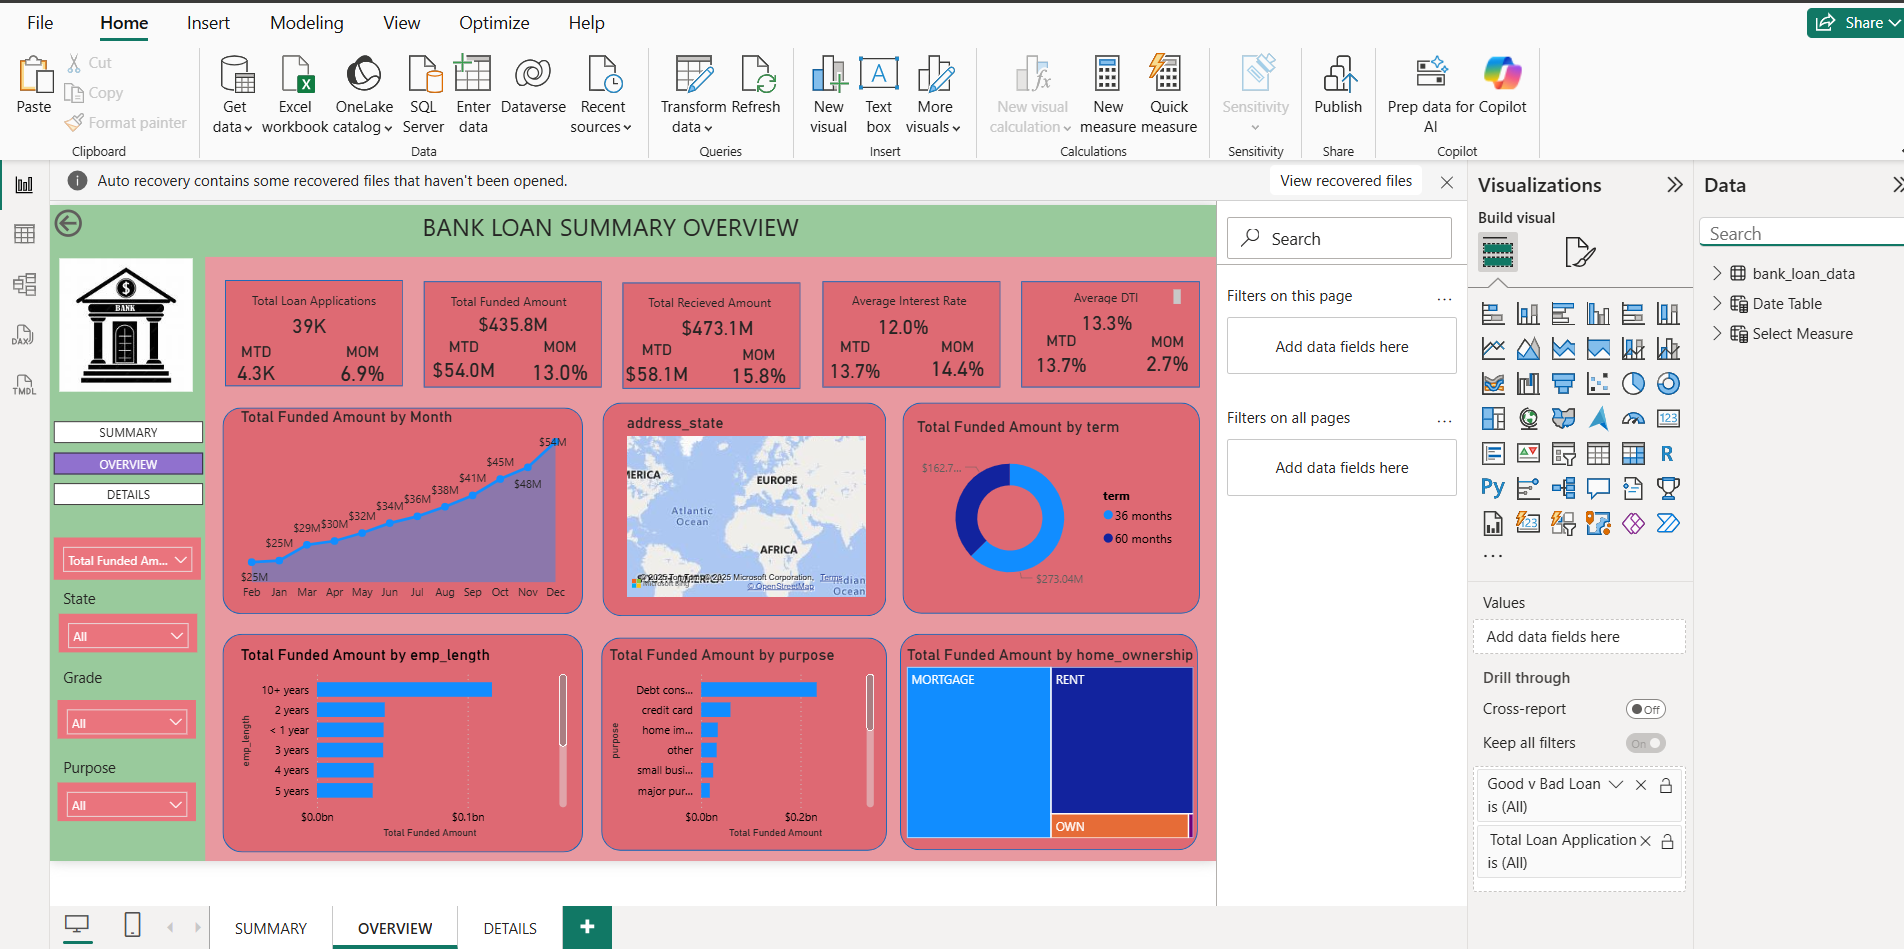

The dashboard page shown, as its layout file describes it:
{"tool":"powerbi","page":{"name":"OVERVIEW","canvas":[1280,720],"ordinal":1},"visuals":[{"type":"shape","box":[411.1,83.3,195.6,116.7],"z":0,"group":"g2"},{"type":"shape","box":[629.5,83.3,195.6,116.7],"z":0,"group":"g3"},{"type":"shape","box":[847.7,83.3,195.6,116.7],"z":0,"group":"g4"},{"type":"shape","box":[191.1,83.5,195.6,116.7],"z":0,"group":"g1"},{"type":"shape","box":[1065.8,83.5,196.2,116.6],"z":0,"group":"g5"},{"type":"shape","box":[189.4,222,395.7,226.8],"z":0},{"type":"shape","box":[0,0,1280,56.7],"z":1000},{"type":"card","fields":{"Values":["Date Table.Total Funded Amount"]},"box":[459,102.9,100.2,56.3],"z":1000,"group":"g2"},{"type":"card","fields":{"Values":["Date Table.AVG DTI"]},"box":[1113.7,104.3,97.4,45.3],"z":1000,"group":"g5"},{"type":"card","fields":{"Values":["Date Table.Total Recieved Amount"]},"box":[684.1,111.1,70,45.3],"z":1000,"group":"g3"},{"type":"card","fields":{"Values":["Date Table.Avg Interest Rate"]},"box":[887.4,111.1,97.4,45.3],"z":1000,"group":"g4"},{"type":"card","fields":{"Values":["Date Table.Total Loan Applications"]},"box":[245.6,120.8,70,45.3],"z":1000,"group":"g1"},{"type":"shape","box":[0,56.3,170.2,664.2],"z":2000},{"type":"textbox","box":[1081.2,88.2,164.7,26.1],"z":2000,"group":"g5"},{"type":"textbox","box":[435.5,91.8,161.9,28.8],"z":2000,"group":"g2"},{"type":"textbox","box":[653.8,91.8,161.9,28.8],"z":2000,"group":"g3"},{"type":"textbox","box":[872,91.8,161.9,28.8],"z":2000,"group":"g4"},{"type":"textbox","box":[215.4,92,161.9,28.8],"z":2000,"group":"g1"},{"type":"group","id":"g1","title":"Group 1","box":[190.7,83.5,196.2,116.6],"z":3000},{"type":"card","title":"MTD","fields":{"Values":["Date Table.MTD Avg DTI"]},"box":[1073.9,138.6,71.4,54.9],"z":3000,"group":"g5"},{"type":"card","title":"MTD","fields":{"Values":["Date Table.MTD funded amount"]},"box":[409.5,145.5,90.6,52.1],"z":3000,"group":"g2"},{"type":"card","title":"MTD","fields":{"Values":["Date Table.MTD Recieved amount"]},"box":[629.3,145.5,81,54.9],"z":3000,"group":"g3"},{"type":"card","title":"MTD","fields":{"Values":["Date Table.MTD Avg Int Rate"]},"box":[847.6,145.5,71.4,54.9],"z":3000,"group":"g4"},{"type":"card","title":"MTD","fields":{"Values":["Date Table.MTD Loan Apllications"]},"box":[190.7,152.4,68.6,48],"z":3000,"group":"g1"},{"type":"group","id":"g2","title":"Group 1","box":[409.5,83.3,197.2,117],"z":4000},{"type":"card","title":"MOM","fields":{"Values":["Date Table.MOM Avg DTI"]},"box":[1190.9,140.3,71.4,48],"z":4000,"group":"g5"},{"type":"card","title":"MOM","fields":{"Values":["Date Table.MOM Total Funded Amount"]},"box":[523.9,145.5,74.1,54.9],"z":4000,"group":"g2"},{"type":"card","title":"MOM","fields":{"Values":["Date Table.MOM Avg Int Rate"]},"box":[960,145.5,71.4,48],"z":4000,"group":"g4"},{"type":"card","title":"MOM","fields":{"Values":["Date Table.MOM Total Recieved Amount"]},"box":[744.4,152.2,71.4,48],"z":4000,"group":"g3"},{"type":"card","title":"MOM","fields":{"Values":["Date Table.MOM Loan Applications"]},"box":[306,152.4,71.4,48],"z":4000,"group":"g1"},{"type":"group","id":"g3","title":"Group 1","box":[629.3,83.3,195.7,117],"z":5000},{"type":"group","id":"g4","title":"Group 1","box":[847.6,83.3,195.6,117],"z":6000},{"type":"group","id":"g5","title":"Group 1","box":[1065.8,83.5,196.5,116.6],"z":7000},{"type":"actionButton","box":[0,0,100,40],"z":8000},{"type":"slicer","fields":{"Values":["bank_loan_data.address_state"]},"box":[9.6,448.7,152.3,42.5],"z":9000},{"type":"slicer","fields":{"Values":["bank_loan_data.grade"]},"box":[8.2,543.4,152.3,42.5],"z":10000},{"type":"slicer","fields":{"Values":["bank_loan_data.purpose"]},"box":[8.2,634,152.3,42.5],"z":11000},{"type":"textbox","box":[9.6,415.8,53.5,54.9],"z":12000},{"type":"textbox","box":[9.6,502.2,63.1,46.7],"z":13000},{"type":"textbox","box":[9.6,601,75.5,54.9],"z":14000},{"type":"textbox","box":[370.5,0,489.9,56.3],"z":15000},{"type":"areaChart","fields":{"Y":["Date Table.Total Funded Amount"],"Category":["Date Table.Month"]},"box":[204.5,222.3,367.8,220.9],"z":16000},{"type":"slicer","fields":{"Values":["Select Measure.Select Measure"]},"box":[4.1,365,161.9,46.7],"z":17000},{"type":"shape","box":[606.5,216.8,311.5,234.6],"z":18000},{"type":"filledMap","fields":{"Category":["bank_loan_data.address_state"]},"box":[628.5,229.2,271.7,205.8],"z":19000},{"type":"shape","box":[935.9,216.8,326.6,231.9],"z":20000},{"type":"donutChart","fields":{"Y":["Date Table.Total Funded Amount"],"Category":["bank_loan_data.term"]},"box":[946.8,233.3,299.1,201.7],"z":21000},{"type":"shape","box":[189.4,470.5,395.7,240.1],"z":22000},{"type":"barChart","fields":{"Y":["Date Table.Total Funded Amount"],"Category":["bank_loan_data.emp_length"]},"box":[203.9,482.6,368,217.2],"z":23000},{"type":"shape","box":[605.6,474.1,313.7,234],"z":24000},{"type":"barChart","fields":{"Y":["Date Table.Total Funded Amount"],"Category":["bank_loan_data.purpose"]},"box":[609.3,482.6,300.4,217.2],"z":25000},{"type":"shape","box":[933.8,470.5,326.9,237.7],"z":26000},{"type":"treemap","fields":{"Values":["Date Table.Total Funded Amount"],"Group":["bank_loan_data.home_ownership"]},"box":[936.2,482.6,324.5,217.2],"z":27000}]}

Visuals, with their boxes on the page's 1280x720 design canvas (x1, y1, x2, y2). These are canvas units, not pixel positions in the 1904x949 screenshot, which may show the page scaled, cropped or inside an application window:
shape: 411,83,607,200
shape: 630,83,825,200
shape: 848,83,1043,200
shape: 191,84,387,200
shape: 1066,84,1262,200
shape: 189,222,585,449
shape: 0,0,1280,57
card - Date Table.Total Funded Amount: 459,103,559,159
card - Date Table.AVG DTI: 1114,104,1211,150
card - Date Table.Total Recieved Amount: 684,111,754,156
card - Date Table.Avg Interest Rate: 887,111,985,156
card - Date Table.Total Loan Applications: 246,121,316,166
shape: 0,56,170,720
textbox: 1081,88,1246,114
textbox: 436,92,597,121
textbox: 654,92,816,121
textbox: 872,92,1034,121
textbox: 215,92,377,121
"Group 1" group: 191,84,387,200
"MTD" card: 1074,139,1145,194
"MTD" card: 410,146,500,198
"MTD" card: 629,146,710,200
"MTD" card: 848,146,919,200
"MTD" card: 191,152,259,200
"Group 1" group: 410,83,607,200
"MOM" card: 1191,140,1262,188
"MOM" card: 524,146,598,200
"MOM" card: 960,146,1031,194
"MOM" card: 744,152,816,200
"MOM" card: 306,152,377,200
"Group 1" group: 629,83,825,200
"Group 1" group: 848,83,1043,200
"Group 1" group: 1066,84,1262,200
actionButton: 0,0,100,40
slicer - bank_loan_data.address_state: 10,449,162,491
slicer - bank_loan_data.grade: 8,543,160,586
slicer - bank_loan_data.purpose: 8,634,160,676
textbox: 10,416,63,471
textbox: 10,502,73,549
textbox: 10,601,85,656
textbox: 370,0,860,56
areaChart - Date Table.Total Funded Amount x Date Table.Month: 204,222,572,443
slicer - Select Measure.Select Measure: 4,365,166,412
shape: 606,217,918,451
filledMap - bank_loan_data.address_state: 628,229,900,435
shape: 936,217,1262,449
donutChart - Date Table.Total Funded Amount x bank_loan_data.term: 947,233,1246,435
shape: 189,470,585,711
barChart - Date Table.Total Funded Amount x bank_loan_data.emp_length: 204,483,572,700
shape: 606,474,919,708
barChart - Date Table.Total Funded Amount x bank_loan_data.purpose: 609,483,910,700
shape: 934,470,1261,708
treemap - Date Table.Total Funded Amount x bank_loan_data.home_ownership: 936,483,1261,700
